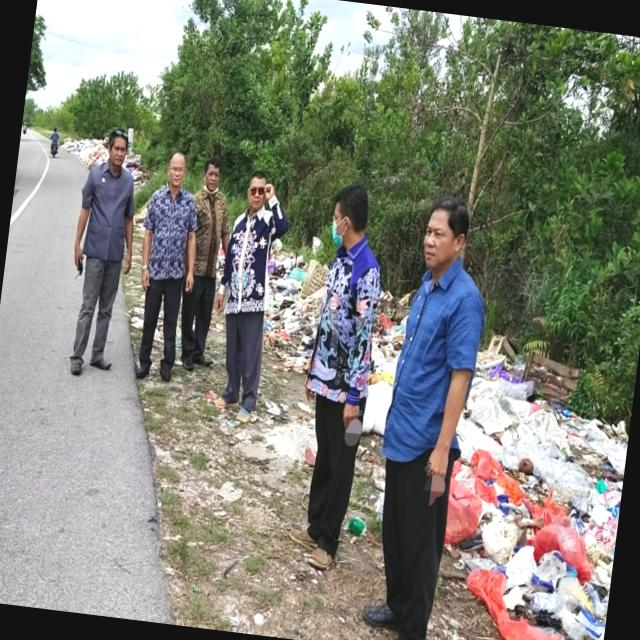garbage: (436, 355, 635, 640)
